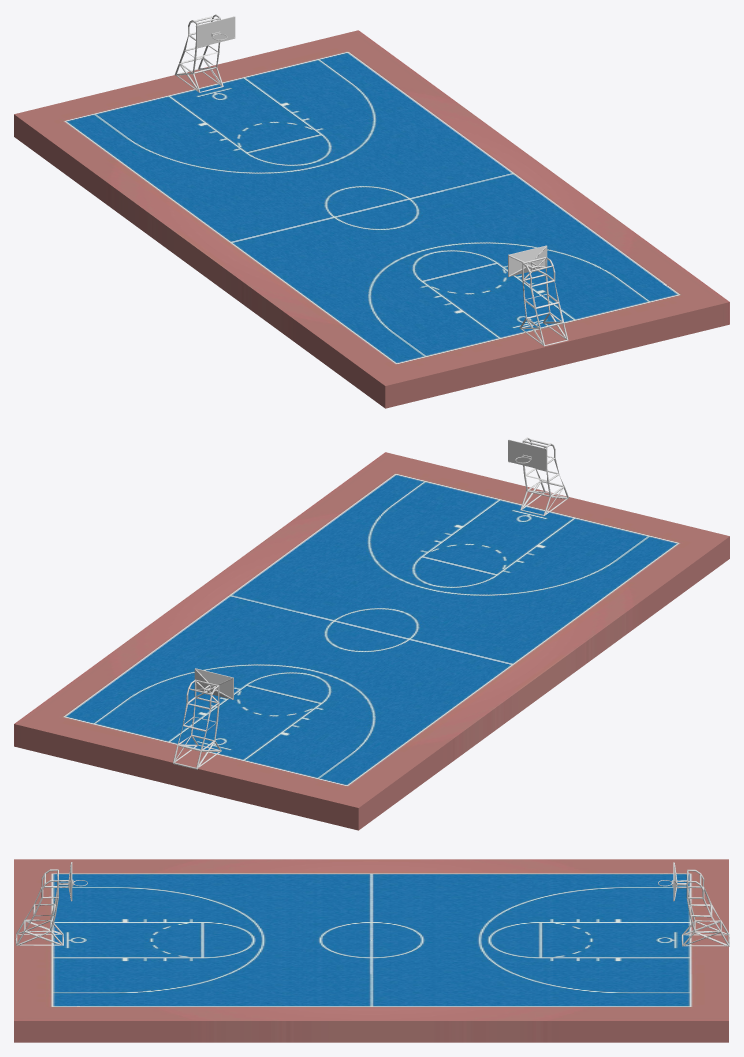
Rendered from Basketball.glb.
3 renders of one model, top to bottom at view 1: azimuth 30°, elevation 25°; view 2: azimuth 150°, elevation 25°; view 3: azimuth 270°, elevation 25°, orthographic. The views are drawn at different scales.
Visible parts, largest first — view 1: b, Cube.016, Cube.013, Cube.014, Cube.015; view 2: b, Cube.013, Cube.016, Cube.015, Cube.014; view 3: b, Cube.013, Cube.016.
Boxes of the visible parts, box(x1,y1,x2,y2) form: b: box(14, 30, 729, 408); Cube.016: box(509, 246, 568, 346); Cube.013: box(174, 14, 234, 92); Cube.014: box(196, 16, 235, 47); Cube.015: box(508, 245, 547, 276); b: box(14, 452, 729, 830); Cube.013: box(173, 668, 233, 769); Cube.016: box(508, 437, 568, 515); Cube.015: box(508, 439, 547, 470); Cube.014: box(194, 668, 233, 699); b: box(14, 859, 728, 1042); Cube.013: box(673, 862, 729, 946); Cube.016: box(15, 862, 72, 945).
Size of the model in its own units: 21.76 by 5.7 by 40.67.
Materials: 1 (1 with a texture image).
